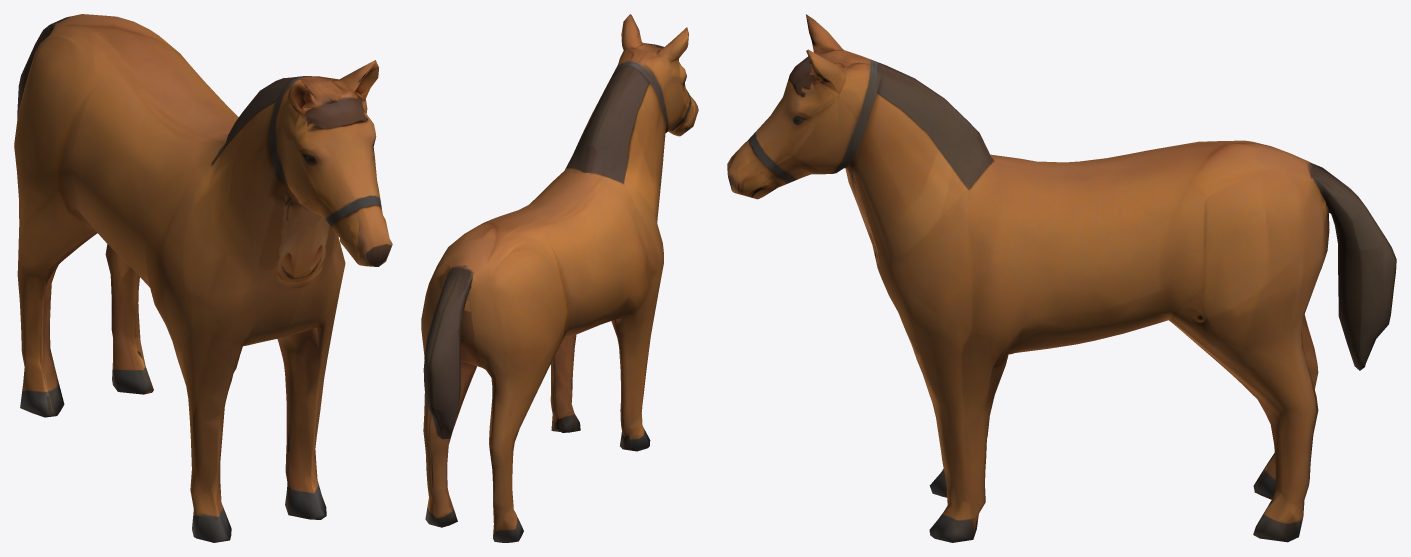
File: Horse.glb
3 views of the same model, side by side, from view 1: azimuth 30°, elevation 25°; view 2: azimuth 150°, elevation 25°; view 3: azimuth 270°, elevation 25° (orthographic). The views are drawn at different scales.
Bounding box in the file's own units: 0.5143 × 1.52 × 1.91.
1 material, 1 textured.
